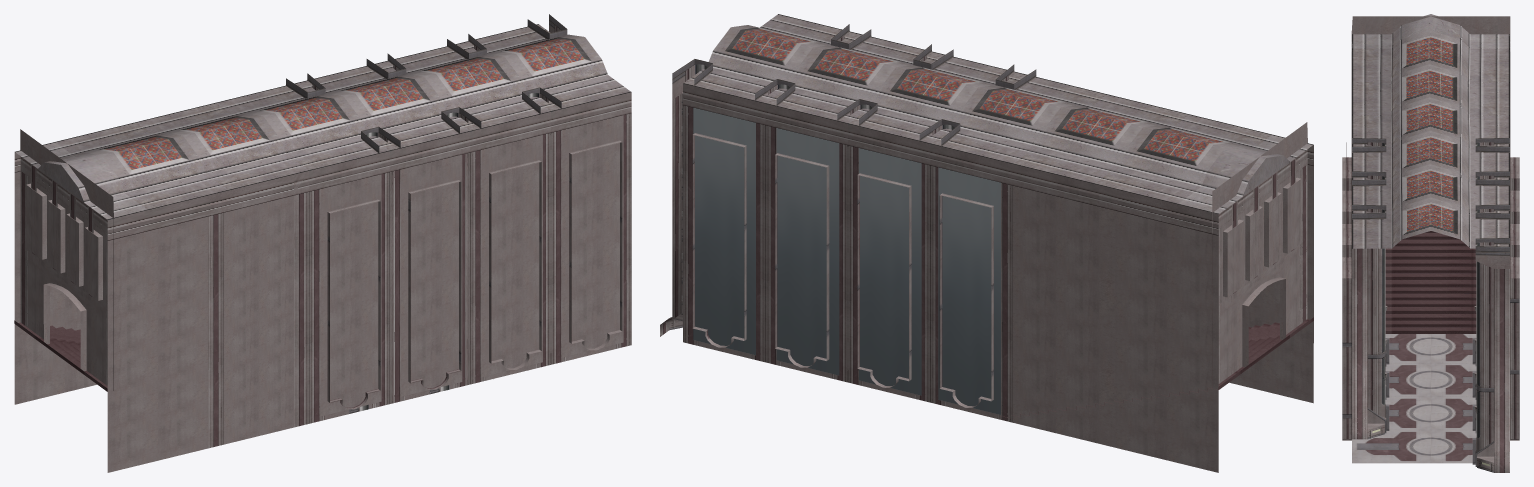
The model's file is Cor1_bldg_Minor_hall_05.fbx.
3 views of the same model, side by side, from view 1: azimuth 30°, elevation 25°; view 2: azimuth 150°, elevation 25°; view 3: azimuth 270°, elevation 25° (orthographic). The views are drawn at different scales.
Visible parts, largest first — view 1: polymsh132, Minor_hall_05, polymsh_extracted334, window_main28, window_main29, window_main11, window_main10, polymsh_extracted228, polymsh_extracted323, polymsh_extracted322, polymsh_extracted229, polymsh_extracted203 (+1 smaller); view 2: polymsh_extracted203, Minor_hall_05, polymsh_extracted334, window_main42, window_main41, window_main43, window_main40, polymsh_extracted205, polymsh_extracted206, polymsh_extracted204, polymsh132, pillar_a5 (+1 smaller); view 3: Minor_hall_05, polymsh133, pillar_a5, pillar_a6, polymsh_extracted334, polymsh_extracted322, polymsh_extracted206, pillar_a4, pillar_a1, pillar_a3, pillar_a, pillar_a2 (+6 smaller).
Boxes of the visible parts, left/top/right/bottom form: polymsh132: left=107, top=171, right=309, bottom=472; Minor_hall_05: left=15, top=24, right=630, bottom=219; polymsh_extracted334: left=20, top=129, right=113, bottom=390; window_main28: left=562, top=115, right=623, bottom=357; window_main29: left=320, top=174, right=381, bottom=416; window_main11: left=481, top=135, right=542, bottom=376; window_main10: left=401, top=154, right=462, bottom=396; polymsh_extracted228: left=389, top=131, right=470, bottom=403; polymsh_extracted323: left=309, top=151, right=389, bottom=423; polymsh_extracted322: left=551, top=92, right=631, bottom=364; polymsh_extracted229: left=470, top=112, right=550, bottom=384; polymsh_extracted203: left=14, top=152, right=96, bottom=404; polymsh_extracted203: left=930, top=144, right=1218, bottom=472; Minor_hall_05: left=683, top=14, right=1313, bottom=214; polymsh_extracted334: left=1212, top=122, right=1307, bottom=388; window_main42: left=776, top=128, right=839, bottom=375; window_main41: left=859, top=148, right=921, bottom=395; window_main43: left=693, top=107, right=755, bottom=355; window_main40: left=938, top=167, right=1000, bottom=414; polymsh_extracted205: left=765, top=104, right=847, bottom=382; polymsh_extracted206: left=683, top=83, right=765, bottom=362; polymsh_extracted204: left=848, top=124, right=930, bottom=402; polymsh132: left=1229, top=145, right=1313, bottom=403; pillar_a5: left=660, top=59, right=712, bottom=336; Minor_hall_05: left=1352, top=14, right=1509, bottom=463; polymsh133: left=1385, top=231, right=1476, bottom=333; pillar_a5: left=1475, top=238, right=1509, bottom=472; pillar_a6: left=1352, top=204, right=1386, bottom=439; polymsh_extracted334: left=1351, top=16, right=1510, bottom=156; polymsh_extracted322: left=1342, top=257, right=1351, bottom=440; polymsh_extracted206: left=1510, top=257, right=1519, bottom=440; pillar_a4: left=1352, top=138, right=1386, bottom=366; pillar_a1: left=1475, top=171, right=1509, bottom=399; pillar_a3: left=1352, top=171, right=1386, bottom=399; pillar_a: left=1475, top=138, right=1509, bottom=365; pillar_a2: left=1475, top=204, right=1509, bottom=432.
Bounding box in the file's own units: 5426 × 2604 × 1800.
